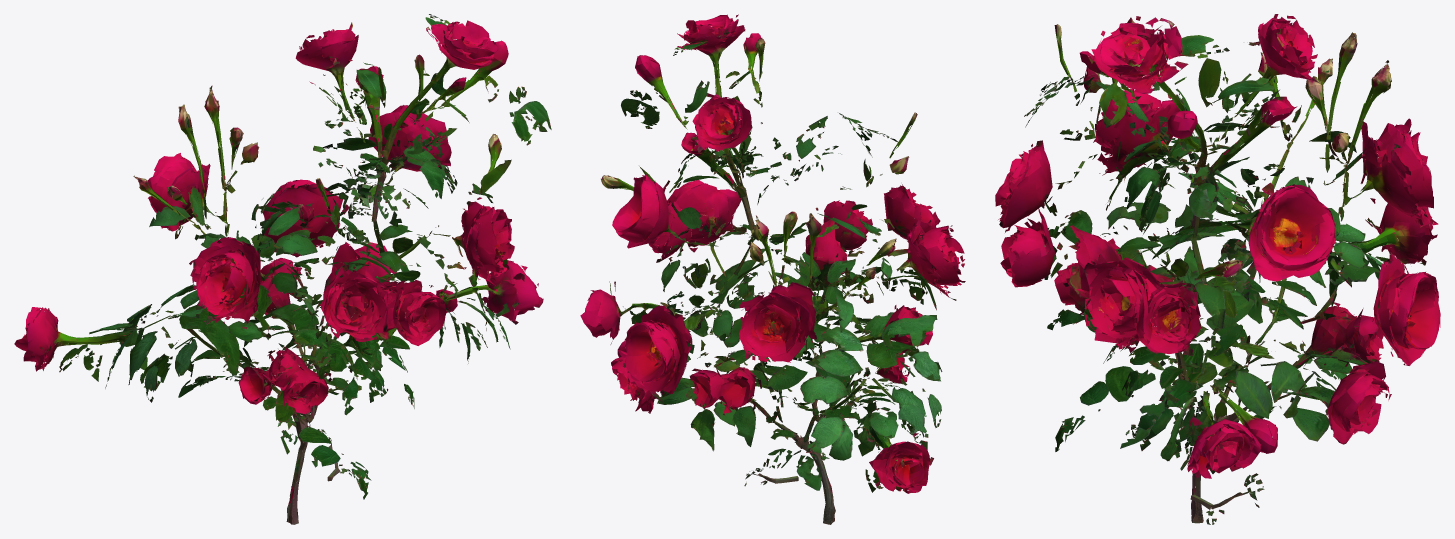
File: veg_shrub_rose_01.glb
3 views of the same model, side by side, from view 1: azimuth 30°, elevation 25°; view 2: azimuth 150°, elevation 25°; view 3: azimuth 270°, elevation 25° (orthographic). The views are drawn at different scales.
Visible parts, largest first — view 1: veg_shrub_rose_01; view 2: veg_shrub_rose_01; view 3: veg_shrub_rose_01.
Boxes of the visible parts, left/top/right/bottom form: veg_shrub_rose_01: left=14, top=14, right=551, bottom=524; veg_shrub_rose_01: left=580, top=14, right=965, bottom=524; veg_shrub_rose_01: left=995, top=14, right=1440, bottom=524.
Size of the model in its own units: 1.65 by 1.72 by 1.2.
1 material, 1 textured.
